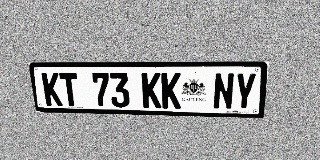3: (109, 73, 130, 108)
7: (91, 73, 111, 107)
K: (41, 72, 63, 106), (161, 73, 181, 109), (141, 73, 161, 108)
N: (213, 73, 235, 110)
T: (59, 72, 80, 107)
Y: (233, 73, 257, 110)
